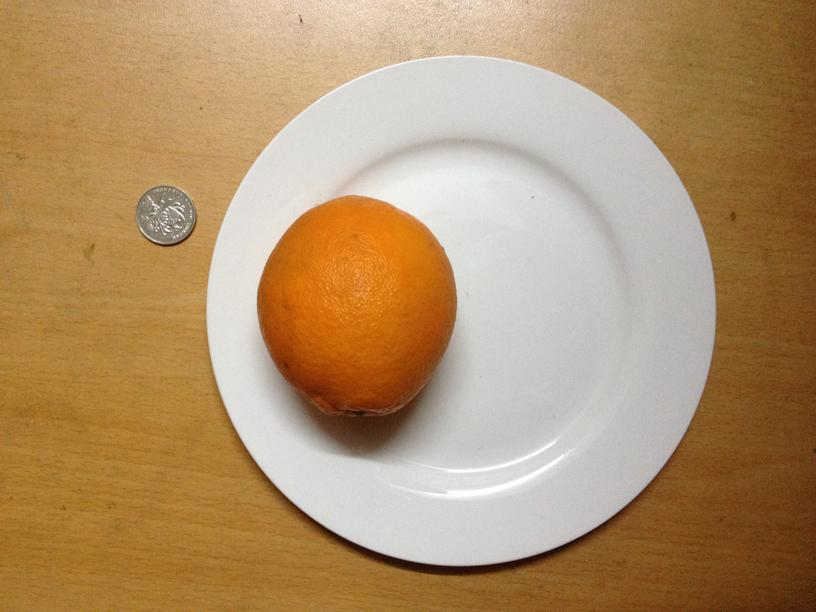coin: (136, 181, 197, 244)
orange: (254, 188, 456, 418)
